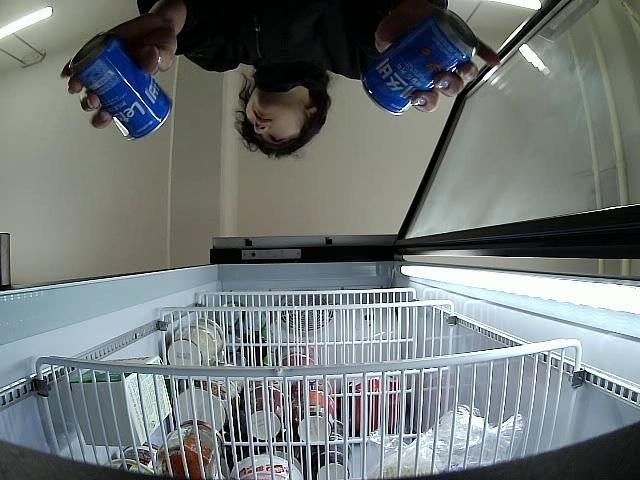15_letsbe: (360, 9, 478, 117), (68, 31, 174, 142)
